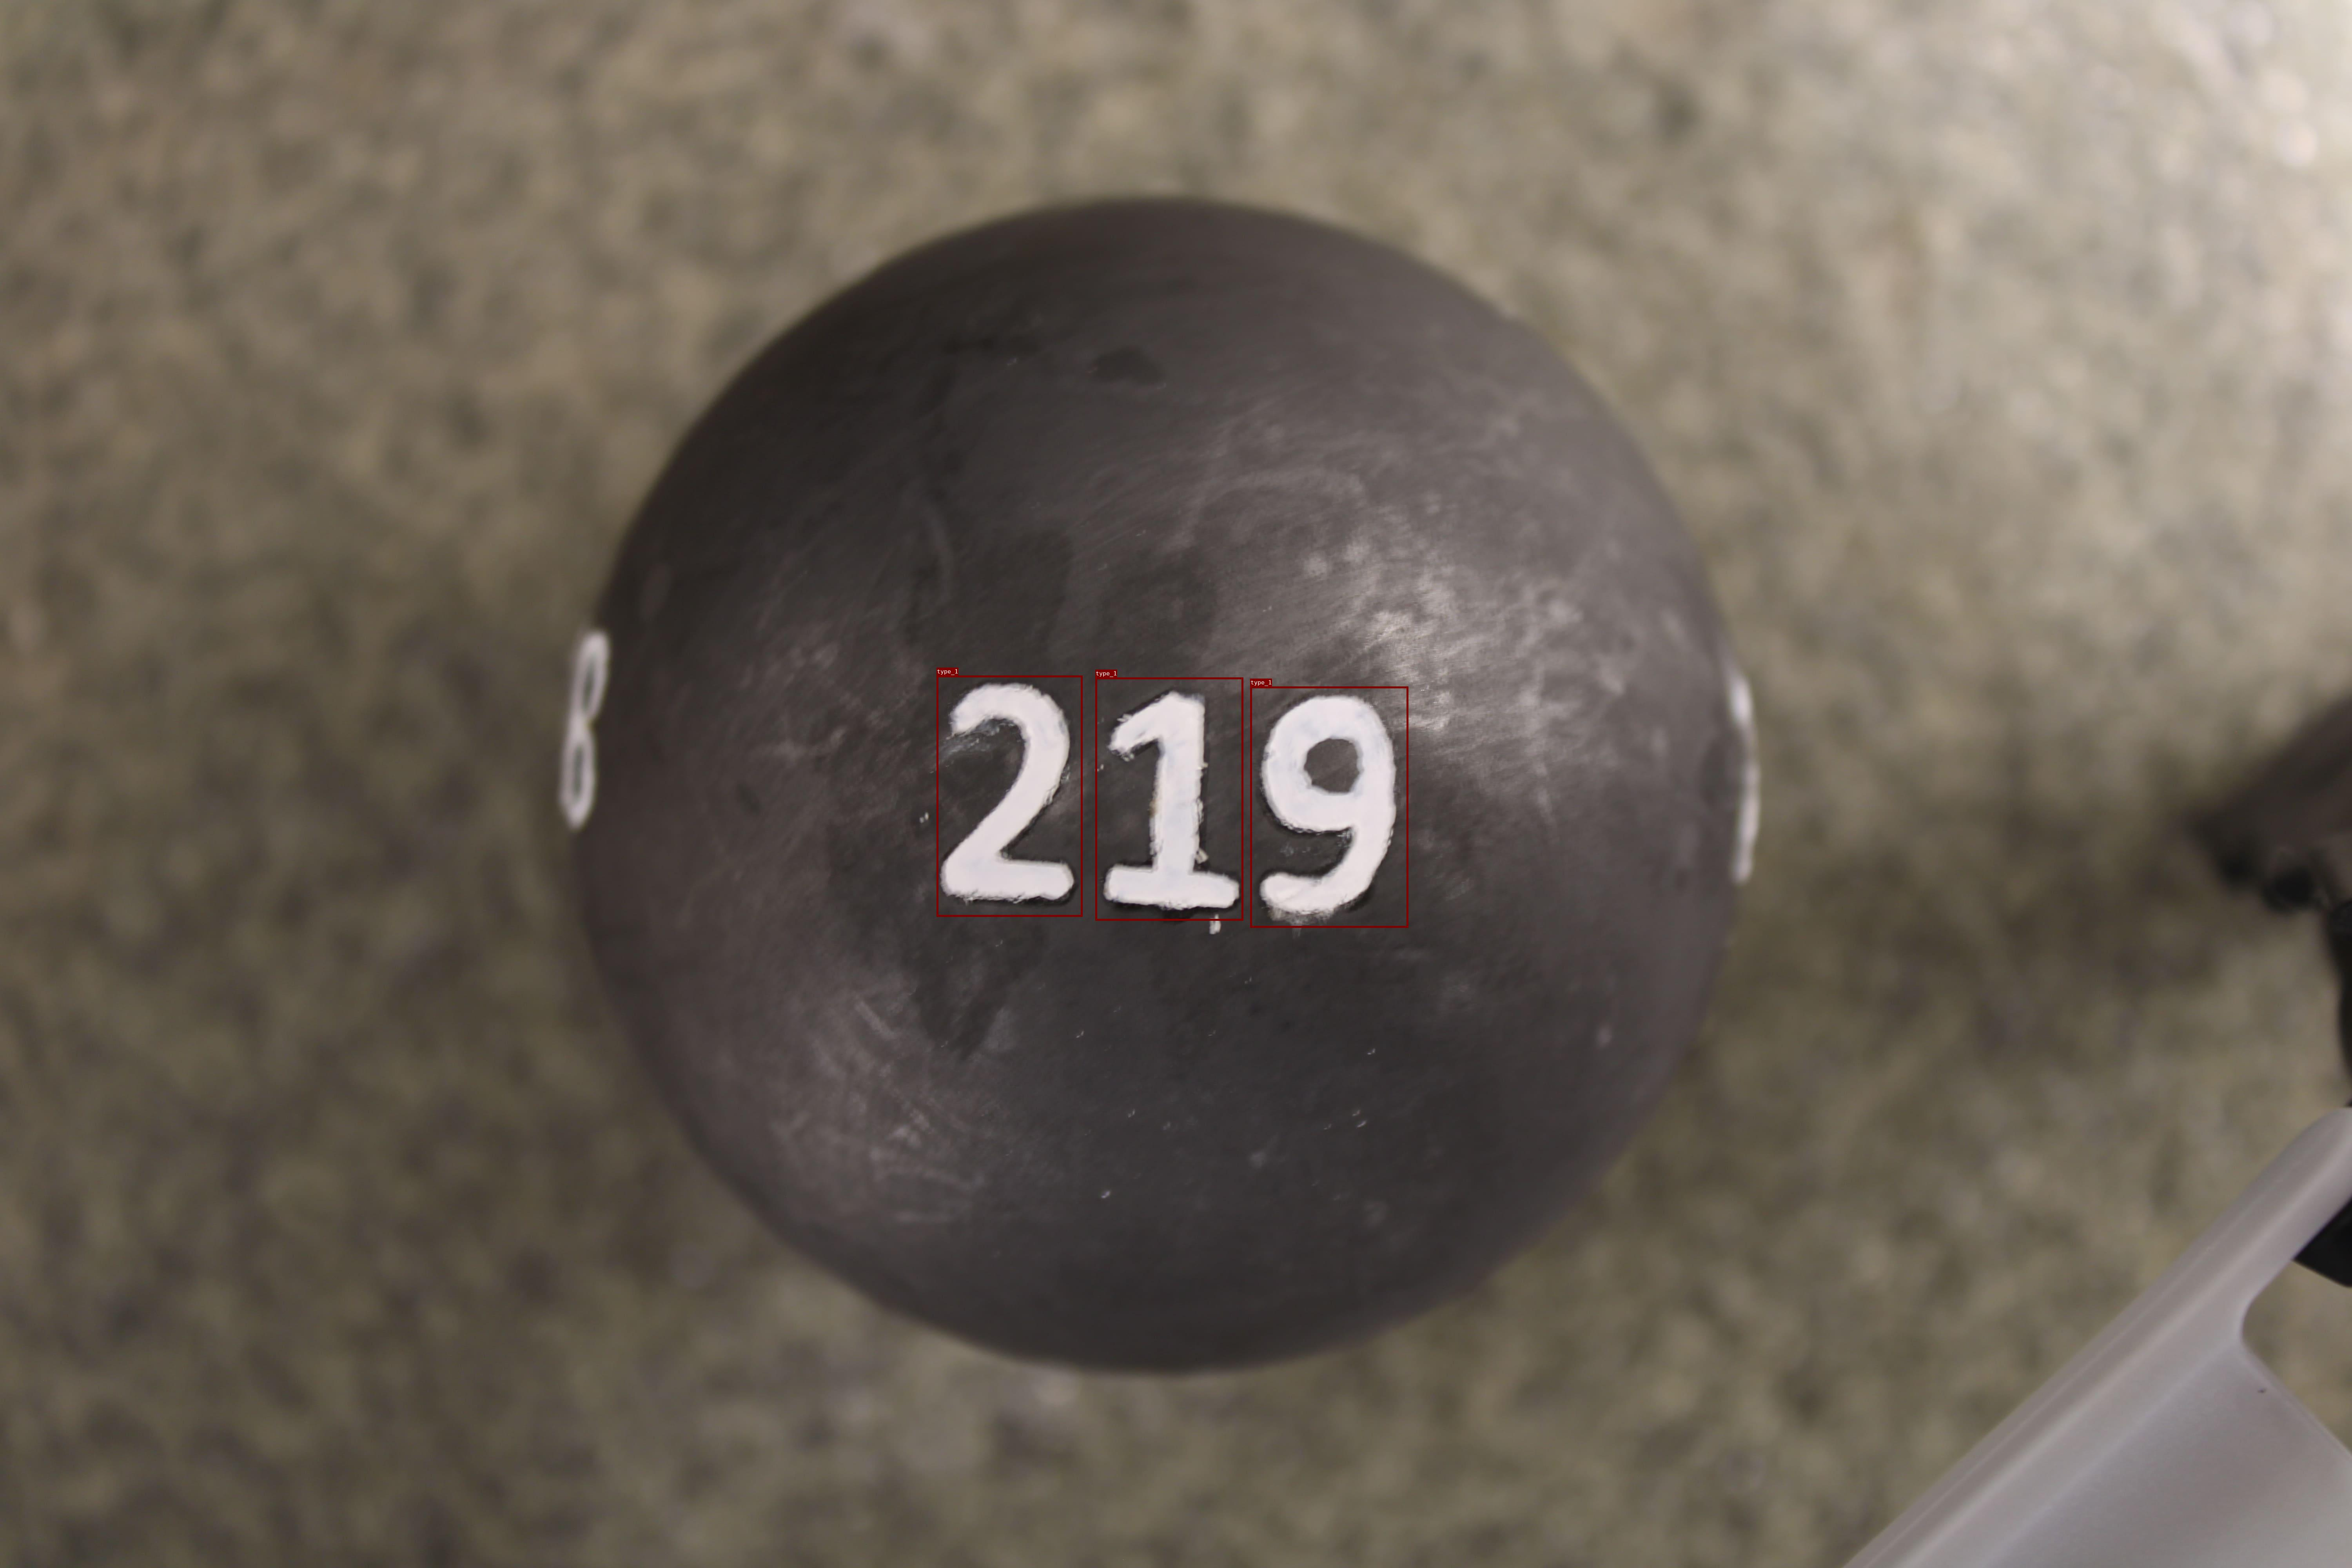type_1: (1249, 686, 1409, 927), (1096, 677, 1243, 921), (936, 675, 1081, 917)
